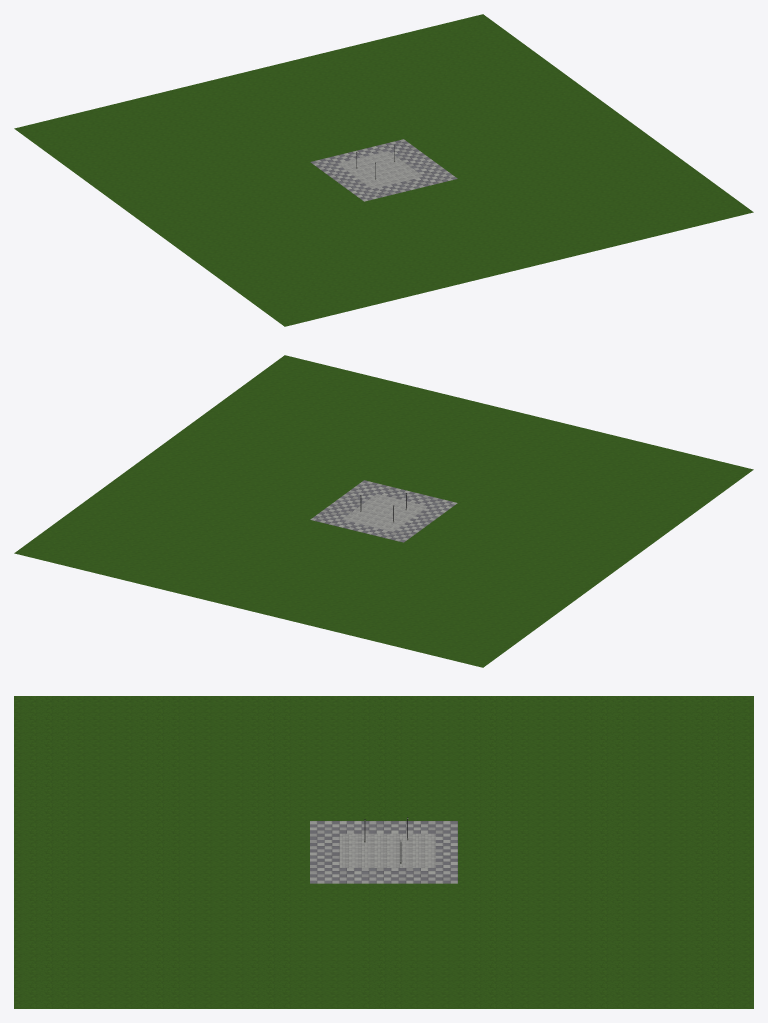
The model's file is Maggi_Point_Site.glb.
3 views of the same model, one above another, from view 1: azimuth 30°, elevation 25°; view 2: azimuth 150°, elevation 25°; view 3: azimuth 270°, elevation 25° (orthographic). The views are drawn at different scales.
Parts seen in each view (by area): view 1: MGP_Ground; view 2: MGP_Ground; view 3: MGP_Ground.
Boxes of the visible parts, <box> form: MGP_Ground: <box>14,14,753,326</box>; MGP_Ground: <box>14,355,753,667</box>; MGP_Ground: <box>14,696,753,1008</box>.
Size of the model in its own units: 280 by 9.48 by 280.
Materials: 6 (4 with a texture image).
